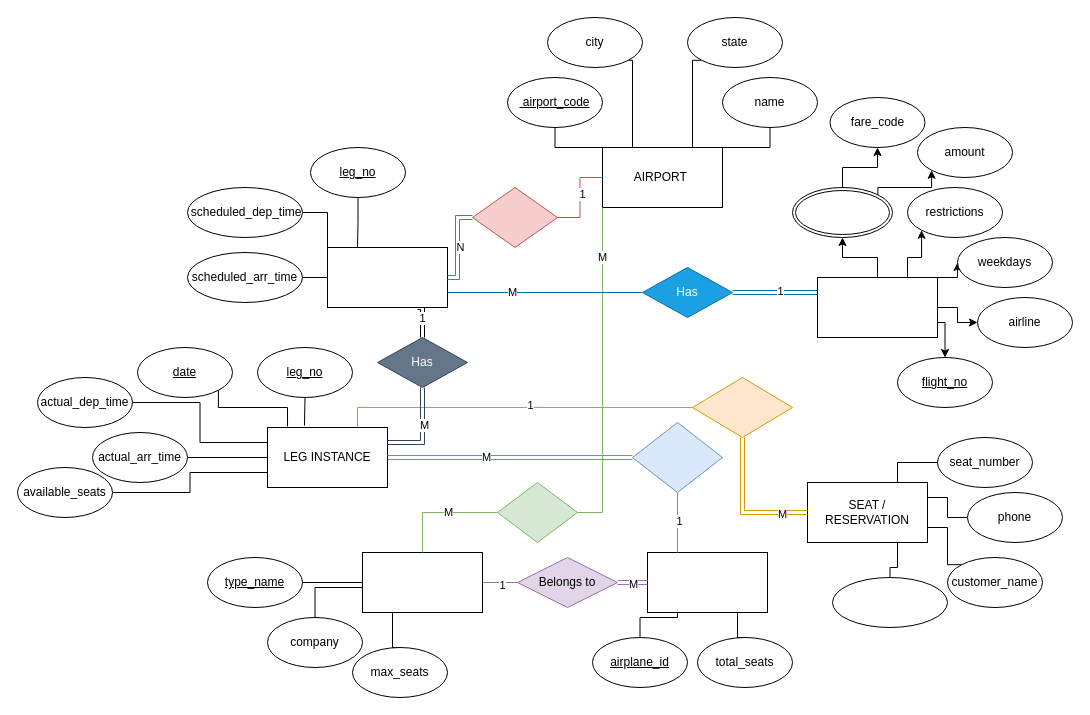
This 1090x715 diagram has some shape labels left out. The shapes that lost their labels are listed below. From the top down, each one's centre as x and y in pixels, then its label:
At [515,217]: "arrival".
At [842,212]: "FARE".
At [387,277]: "FLIGHT LEG".
At [877,307]: "FLIGHT".
At [742,407]: "linked to".
At [677,457]: "assigned".
At [537,512]: "allow landing".
At [422,582]: "AIRPLANE TYPE".
At [707,582]: "AIRPLANE".
At [890,602]: "RESERVATION_id".
